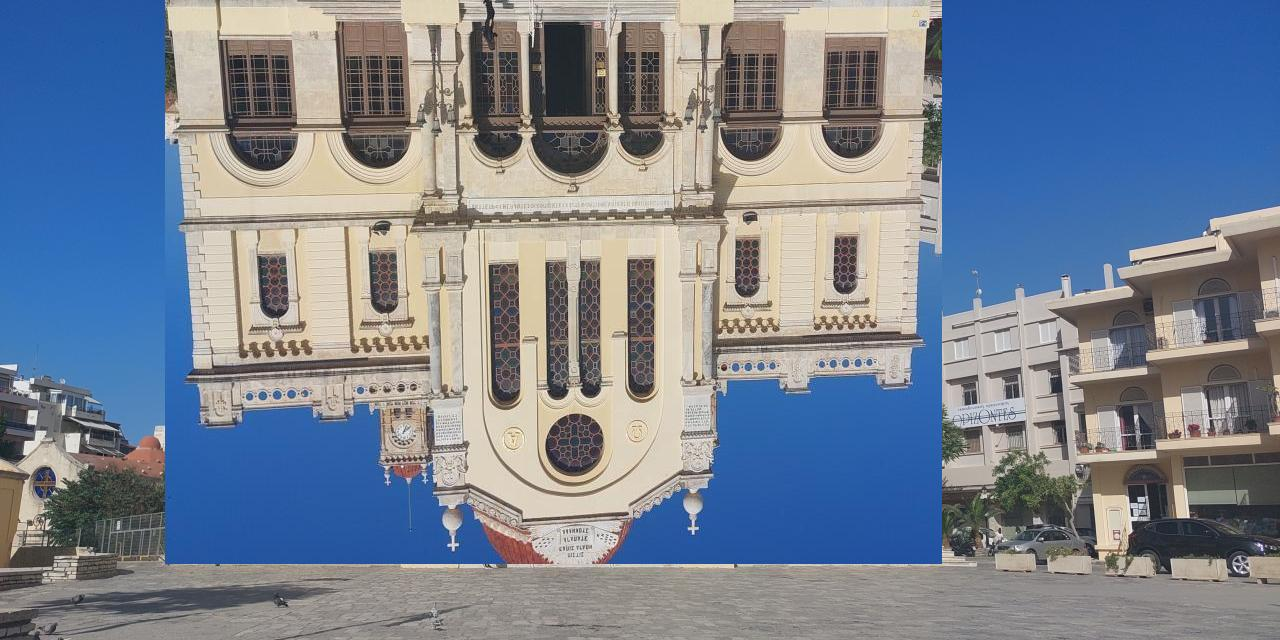Agios Minas: (166, 1, 943, 565)
